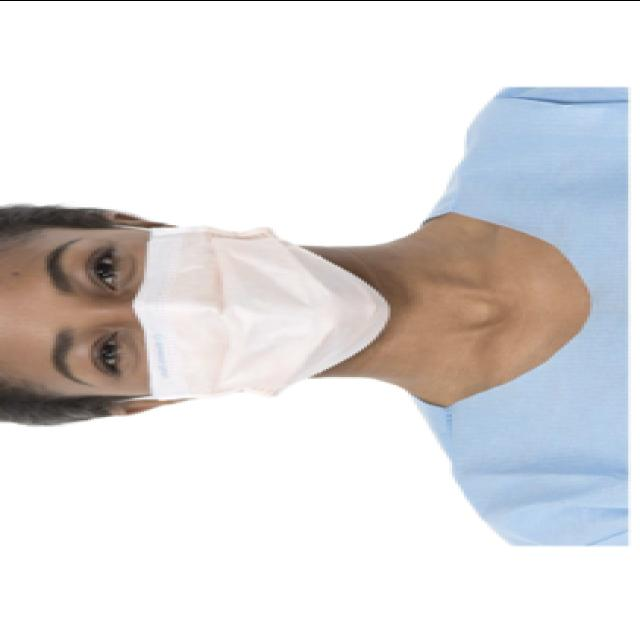mask: (35, 226, 388, 397)
